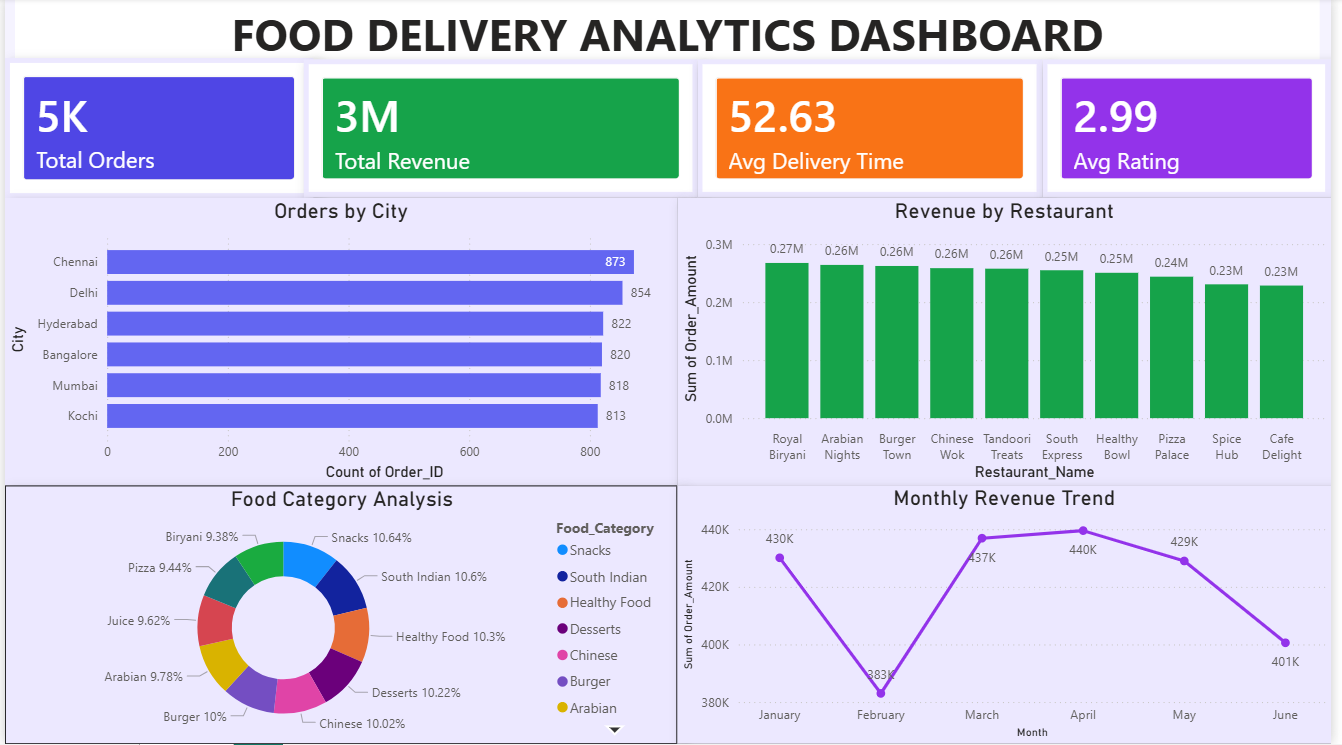

Layout of this report page (visuals, bound fields, positions):
{"tool":"powerbi","page":{"name":"Page 1","canvas":[1280,720],"ordinal":0},"visuals":[{"type":"textbox","box":[9.8,0,1259.5,77],"z":0},{"type":"cardVisual","fields":{"Data":["FoodDeliveryData.Total Orders"]},"box":[0,57.9,298,135.1],"z":1000},{"type":"cardVisual","fields":{"Data":["FoodDeliveryData.Total Revenue"]},"box":[288.3,59.1,380,133.9],"z":2000},{"type":"cardVisual","fields":{"Data":["FoodDeliveryData.Avg Delivery Time"]},"box":[668.4,59.1,333,133.9],"z":3000},{"type":"cardVisual","fields":{"Data":["FoodDeliveryData.Avg Rating"]},"box":[1001.3,59.1,278.7,133.9],"z":4000},{"type":"clusteredBarChart","title":"Orders by City","fields":{"Category":["FoodDeliveryData.City"],"Y":["CountNonNull(FoodDeliveryData.Order_ID)"]},"box":[0,193,649.1,277.5],"z":5000},{"type":"clusteredColumnChart","title":"Revenue by Restaurant","fields":{"Category":["FoodDeliveryData.Restaurant_Name"],"Y":["Sum(FoodDeliveryData.Order_Amount)"]},"box":[649.1,193,631,277.5],"z":6000},{"type":"donutChart","title":"Food Category Analysis","fields":{"Category":["FoodDeliveryData.Food_Category"],"Y":["CountNonNull(FoodDeliveryData.Order_ID)"]},"box":[0,470.5,649.1,249.7],"z":7000},{"type":"lineChart","title":"Monthly Revenue Trend","fields":{"Category":["FoodDeliveryData.Order_Date.Variation.Date Hierarchy.Month"],"Y":["Sum(FoodDeliveryData.Order_Amount)"]},"box":[649,471,631,249],"z":8000}]}

Visuals, with their boxes in screenshot pixels (x1, y1, x2, y2), scaled from the page's 1280x720 canvas onto the 1342x745 screenshot:
textbox: <bbox>10, 0, 1331, 80</bbox>
cardVisual - FoodDeliveryData.Total Orders: <bbox>0, 60, 312, 200</bbox>
cardVisual - FoodDeliveryData.Total Revenue: <bbox>302, 61, 701, 200</bbox>
cardVisual - FoodDeliveryData.Avg Delivery Time: <bbox>701, 61, 1050, 200</bbox>
cardVisual - FoodDeliveryData.Avg Rating: <bbox>1050, 61, 1341, 200</bbox>
"Orders by City" clusteredBarChart: <bbox>0, 200, 681, 487</bbox>
"Revenue by Restaurant" clusteredColumnChart: <bbox>681, 200, 1341, 487</bbox>
"Food Category Analysis" donutChart: <bbox>0, 487, 681, 744</bbox>
"Monthly Revenue Trend" lineChart: <bbox>680, 487, 1341, 744</bbox>
